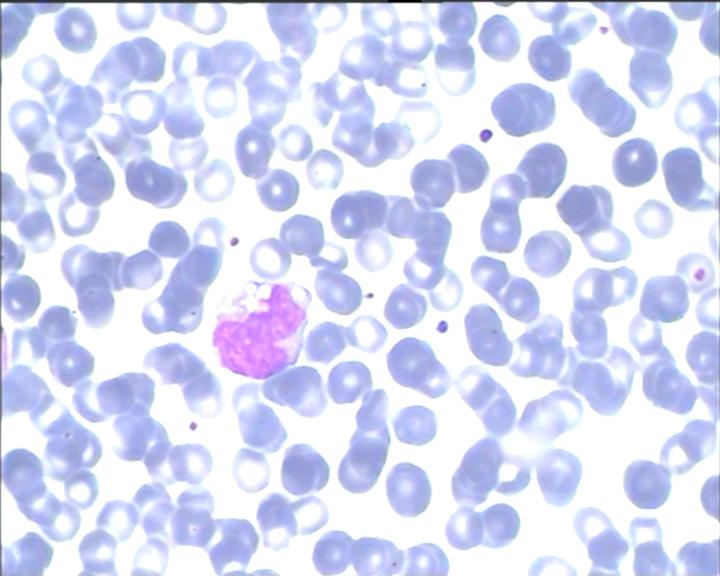mono: (209, 275, 313, 382)
